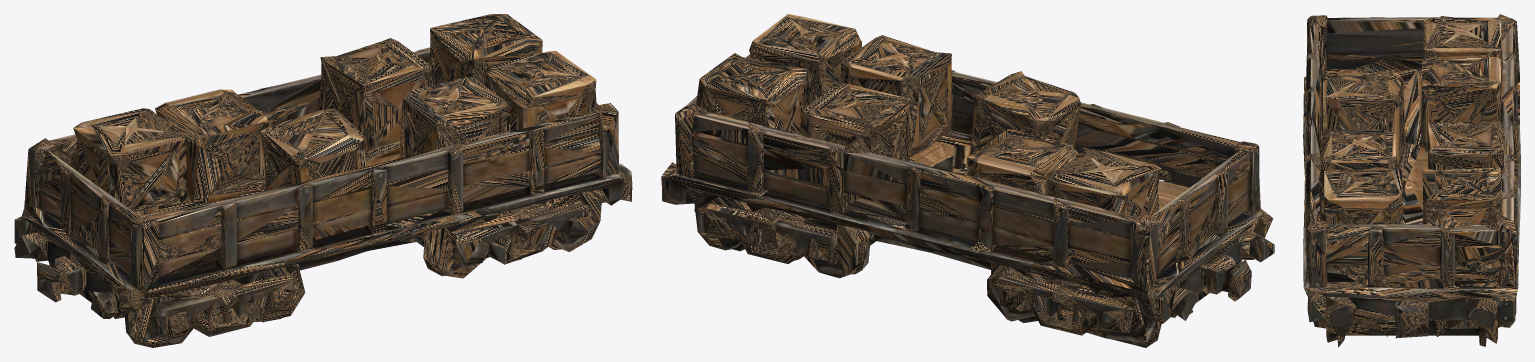
File: rail_flat.glb
3 views of the same model, side by side, from view 1: azimuth 30°, elevation 25°; view 2: azimuth 150°, elevation 25°; view 3: azimuth 270°, elevation 25° (orthographic). The views are drawn at different scales.
Visible parts, largest first — view 1: normalize; view 2: normalize; view 3: normalize.
Boxes of the visible parts, left/top/right/bottom form: normalize: left=14, top=14, right=632, bottom=347; normalize: left=661, top=14, right=1274, bottom=347; normalize: left=1303, top=14, right=1520, bottom=347.
Bounding box in the file's own units: 1 × 0.2954 × 0.3674.
1 material, 1 textured.
